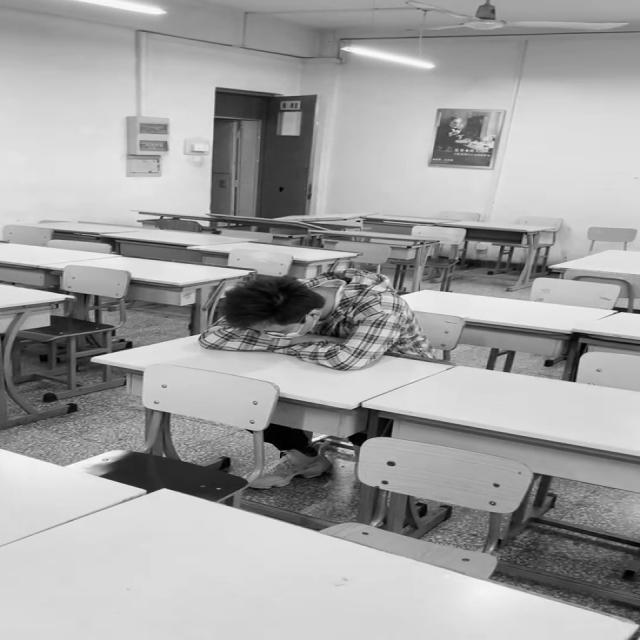sleep: (197, 268, 431, 369)
